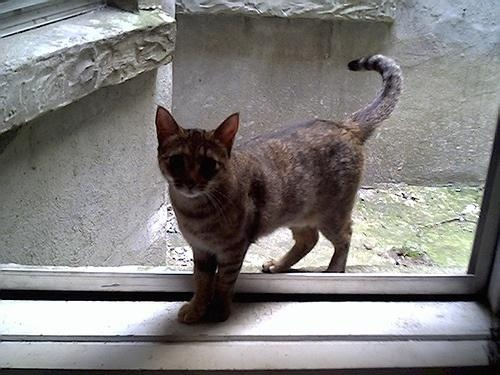cat: (154, 54, 404, 323)
